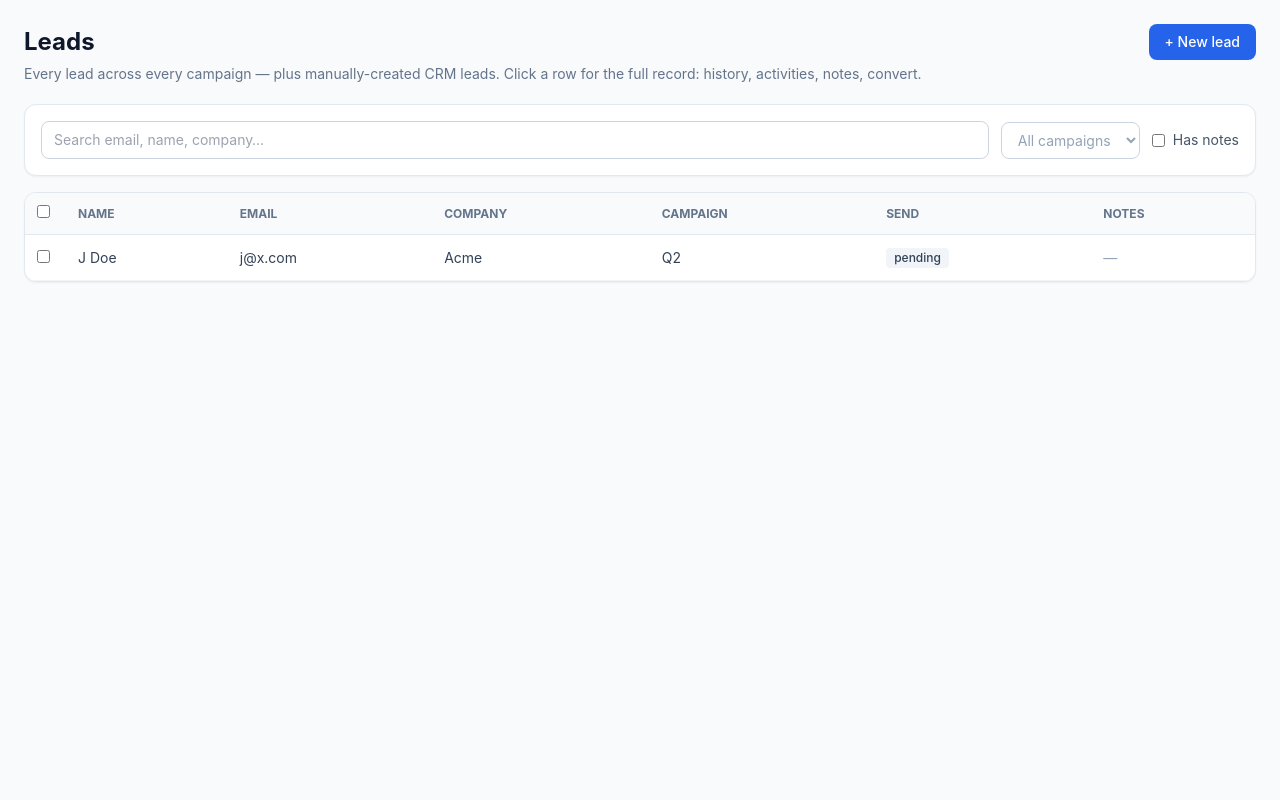
it: Leads page › renders LinkedIn link + contact-info section from the rich detail endpoint
Step 1. Click the row with test id "lead-row-l2" → (640, 258), box left=25, top=234, right=1255, bottom=280
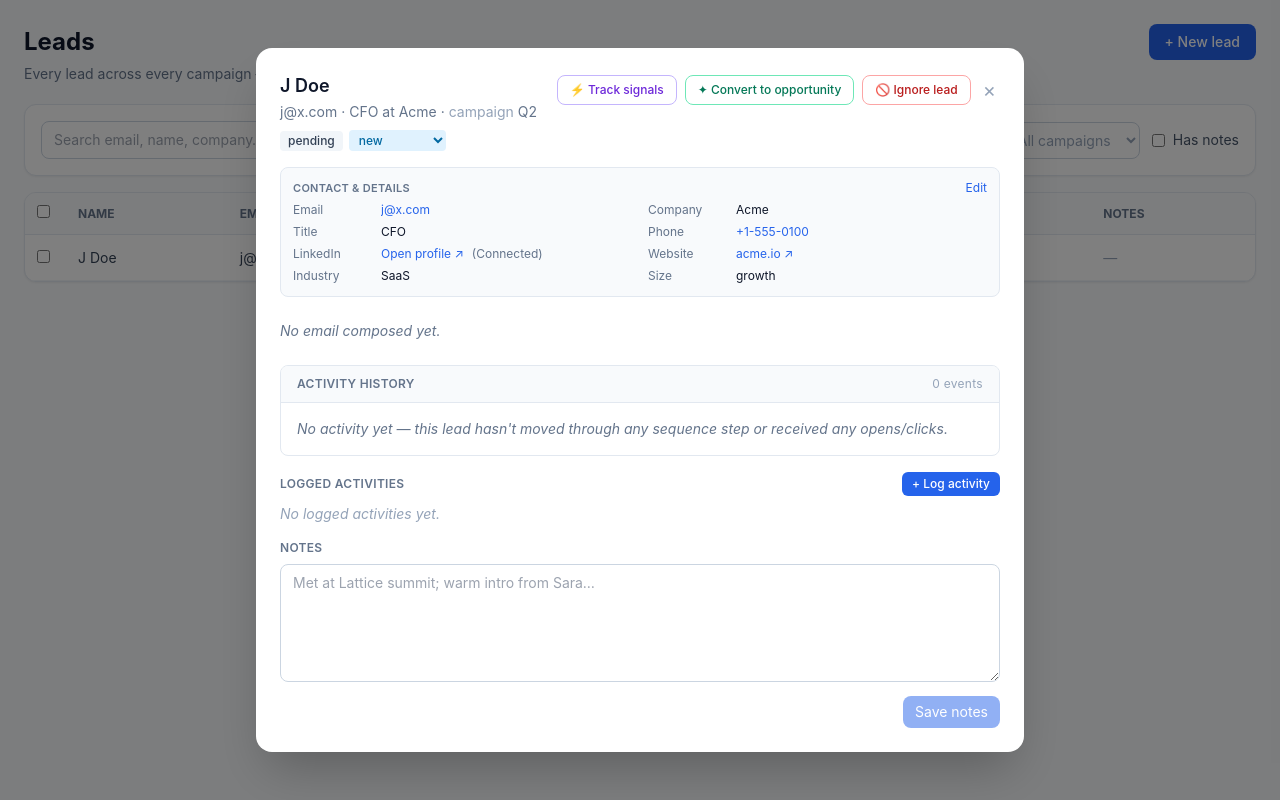
Result: the text "(Connected)" is shown at left=472, top=246, right=543, bottom=261
Result: the link "+1-555-0100" is shown at left=736, top=224, right=809, bottom=239
Result: the link "acme.io ↗" is shown at left=736, top=246, right=793, bottom=261
